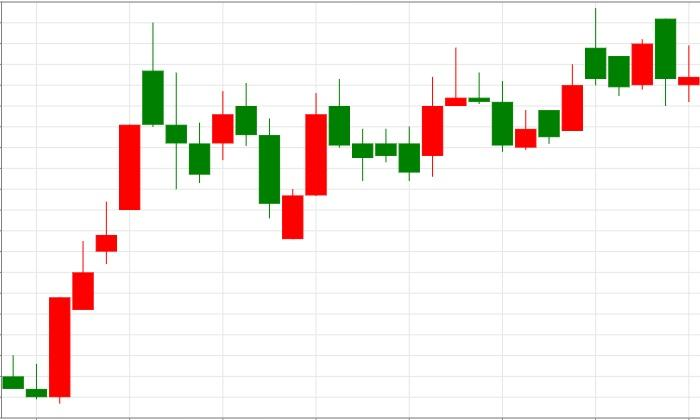shooting_star_fall: (515, 8, 606, 150)
